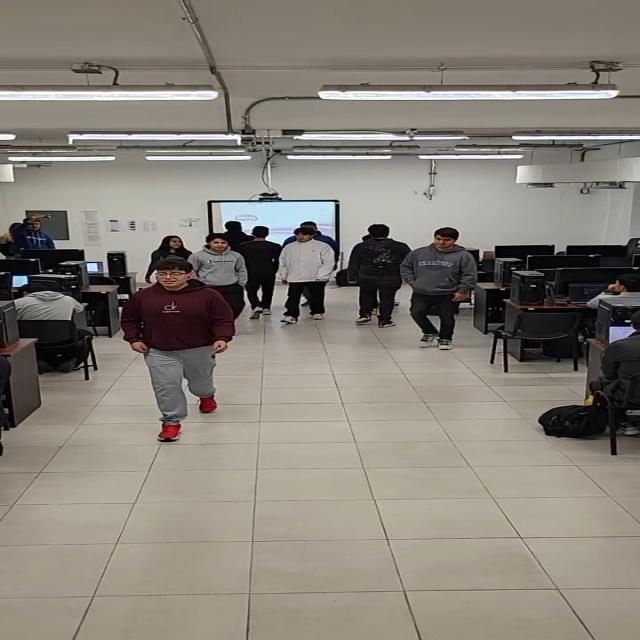Persona: (118, 257, 235, 443), (407, 226, 478, 352), (347, 222, 405, 329), (284, 225, 337, 328), (236, 224, 280, 321), (198, 231, 245, 318)
